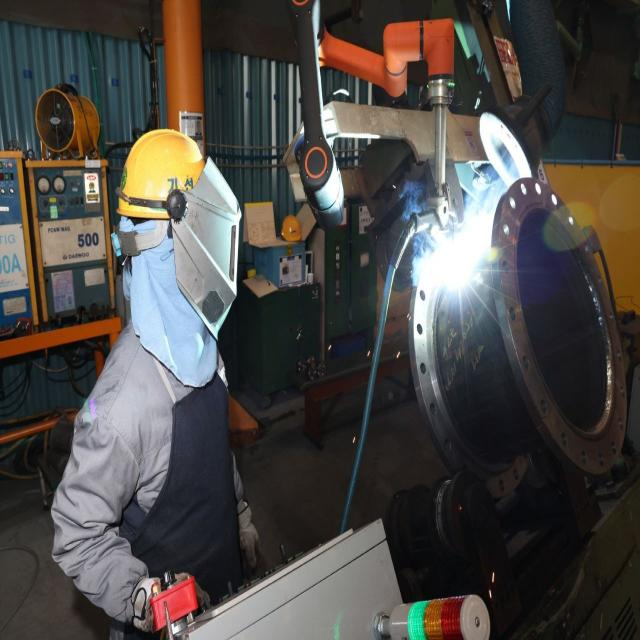welding: (434, 227, 477, 290)
